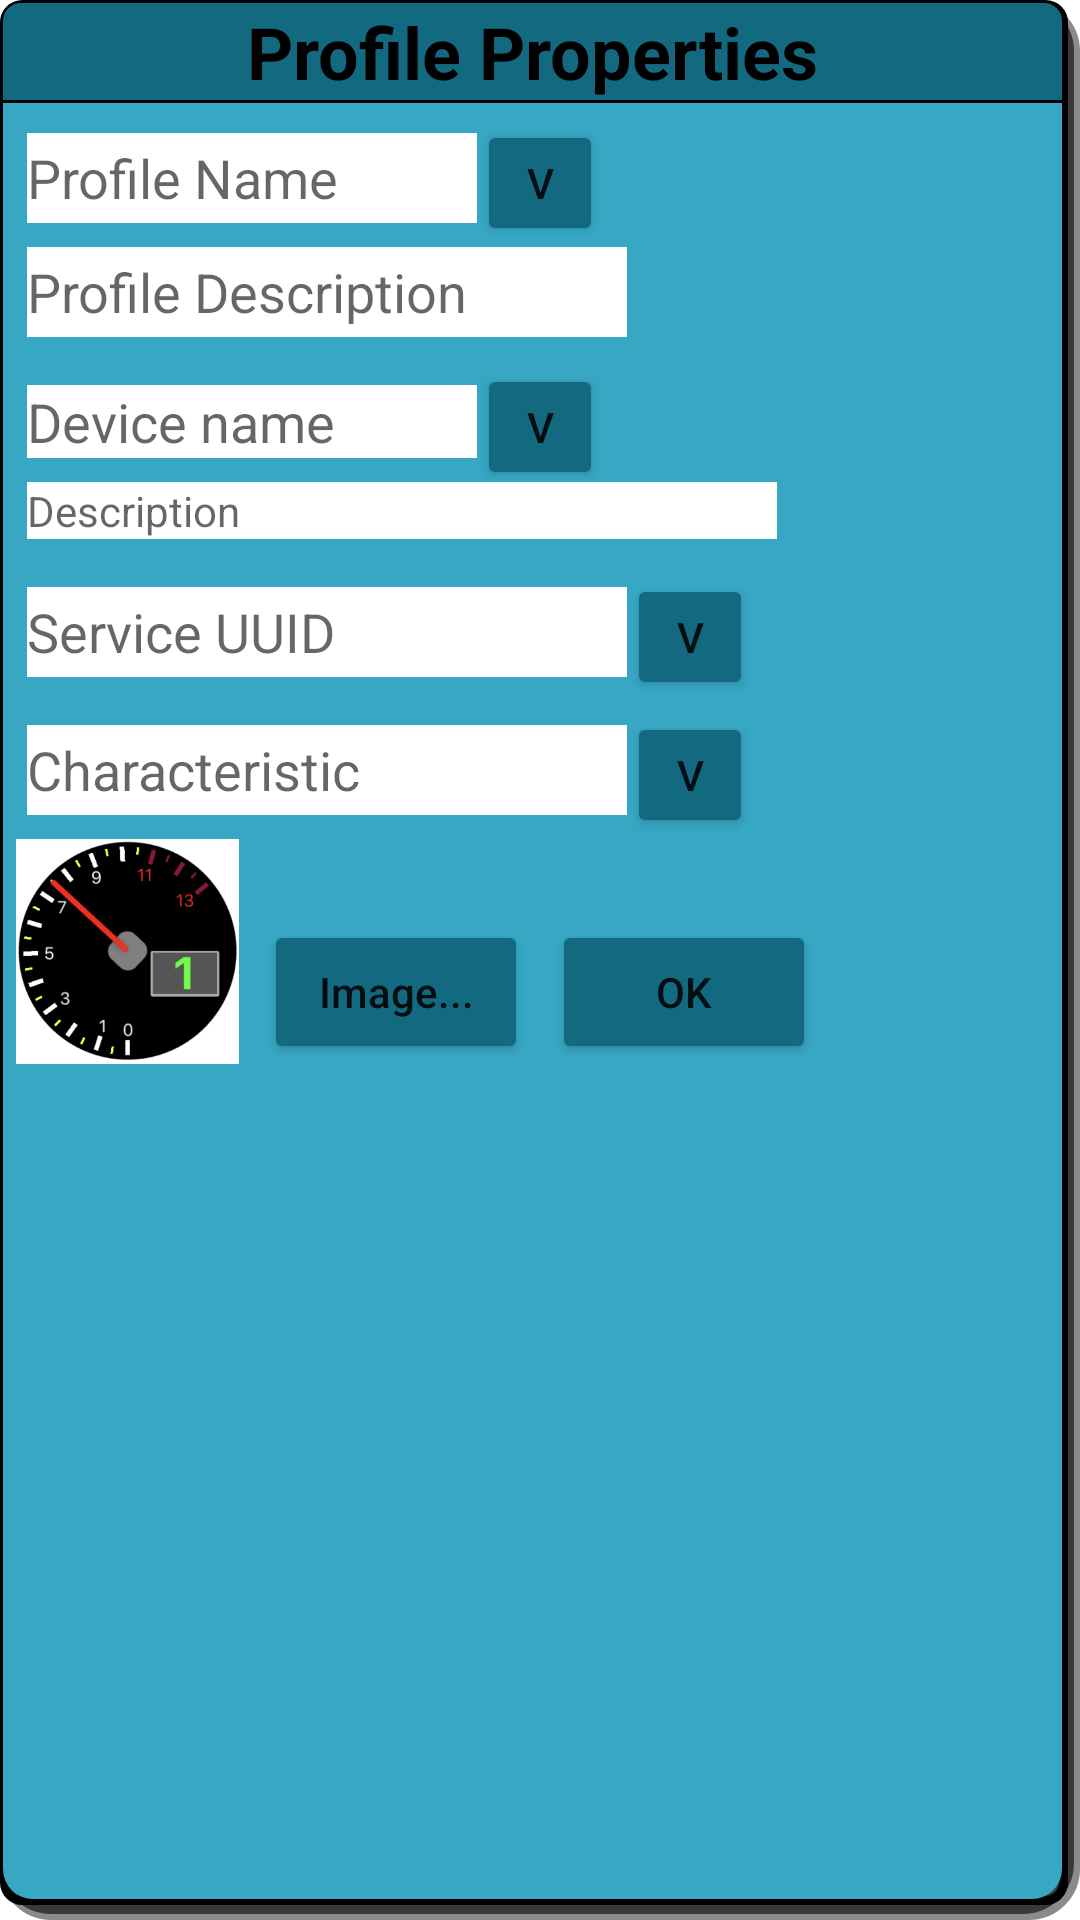

Screen size 1080*1920. Icon name, then its box in pixels as rect(x1, y1, x2, y2):
thumb odometer: rect(16, 839, 239, 1064)
